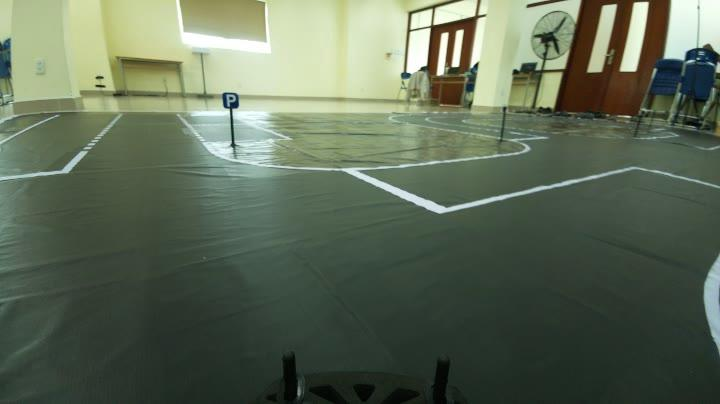parking: (222, 87, 244, 108)
